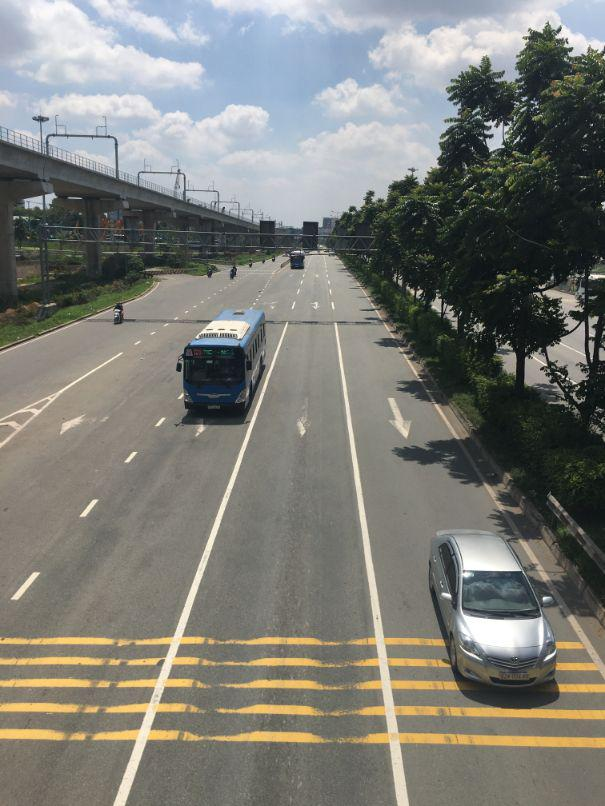bus: (180, 309, 268, 422), (290, 248, 306, 267)
car: (427, 531, 560, 693)
